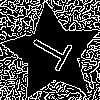T: (27, 28, 81, 77)
